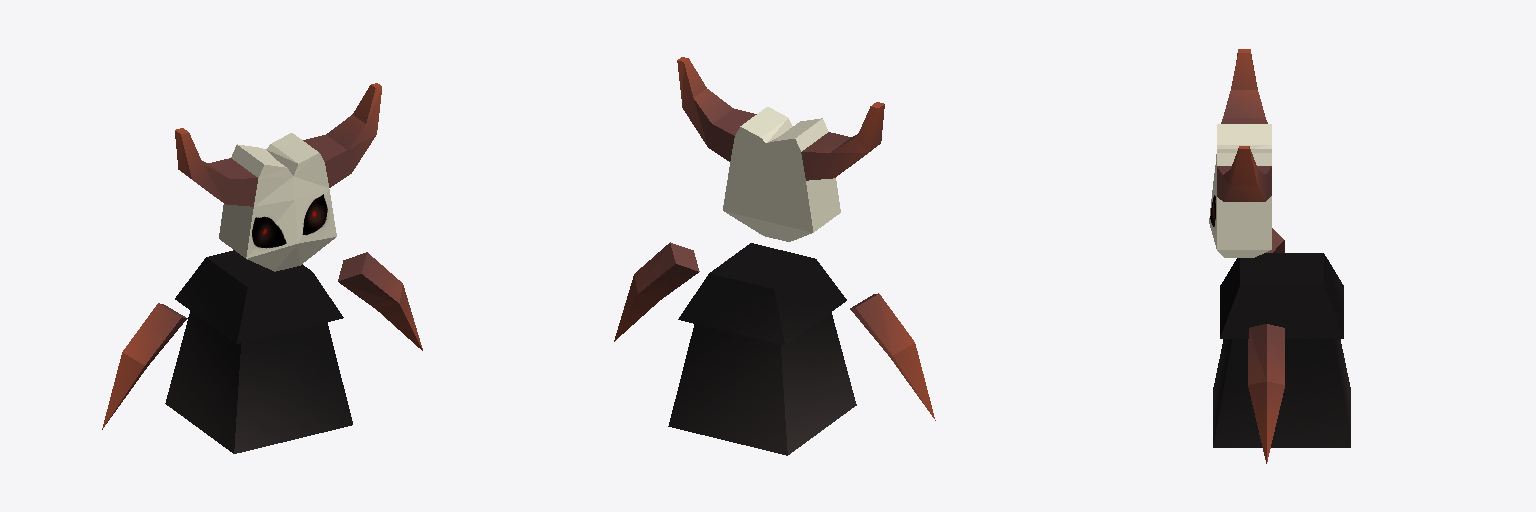
The picture shows the model from 3 angles: view 1: azimuth 30°, elevation 25°; view 2: azimuth 150°, elevation 25°; view 3: azimuth 270°, elevation 25°; orthographic projection.
Visible parts, largest first — view 1: group2 horneddemon1:group1floatingheaddemon, horneddemon1:group1floatingheaddemonfloatinghead group2, group2 horneddemon1:pPyramid7, group2 horneddemon1:pPyramid8; view 2: group2 horneddemon1:group1floatingheaddemon, horneddemon1:group1floatingheaddemonfloatinghead group2, group2 horneddemon1:pPyramid7, group2 horneddemon1:pPyramid8; view 3: group2 horneddemon1:group1floatingheaddemon, horneddemon1:group1floatingheaddemonfloatinghead group2, group2 horneddemon1:pPyramid7.
Part boxes in pixels (x1,y1,x2,y2): group2 horneddemon1:group1floatingheaddemon: (165,250,352,453); horneddemon1:group1floatingheaddemonfloatinghead group2: (175,83,381,271); group2 horneddemon1:pPyramid7: (338,252,422,350); group2 horneddemon1:pPyramid8: (102,303,187,429); group2 horneddemon1:group1floatingheaddemon: (668,243,856,455); horneddemon1:group1floatingheaddemonfloatinghead group2: (677,57,884,241); group2 horneddemon1:pPyramid7: (614,242,699,341); group2 horneddemon1:pPyramid8: (850,293,935,420); group2 horneddemon1:group1floatingheaddemon: (1213,253,1350,447); horneddemon1:group1floatingheaddemonfloatinghead group2: (1209,49,1271,257); group2 horneddemon1:pPyramid7: (1248,324,1284,463).
Bounding box in the file's own units: 32.32 × 30.76 × 12.35.
1 materials, 1 textured.